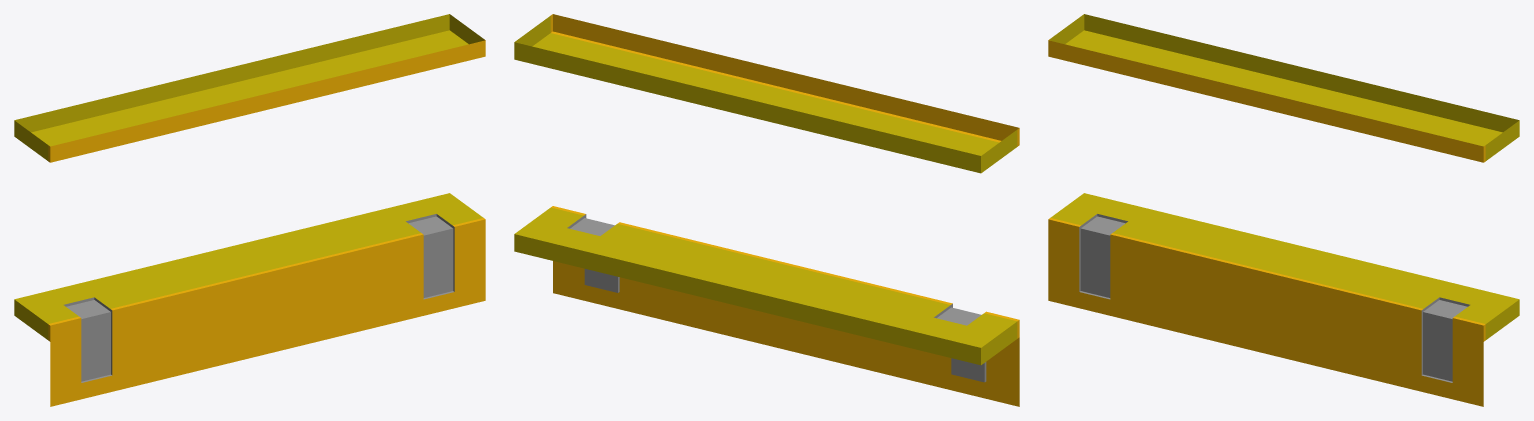
File: door_manual_flush_outswing_7x3.dae
3 views of the same model, side by side, from view 1: azimuth 30°, elevation 25°; view 2: azimuth 150°, elevation 25°; view 3: azimuth 330°, elevation 25° (orthographic). The views are drawn at different scales.
Visible parts, largest first — view 1: Cube; view 2: Cube; view 3: Cube.
Part boxes in pixels (left/top/right/bottom): Cube: left=14, top=14, right=485, bottom=406; Cube: left=514, top=14, right=1019, bottom=406; Cube: left=1048, top=14, right=1519, bottom=406.
Size of the model in its own units: 1.75 by 0.25 by 1.
